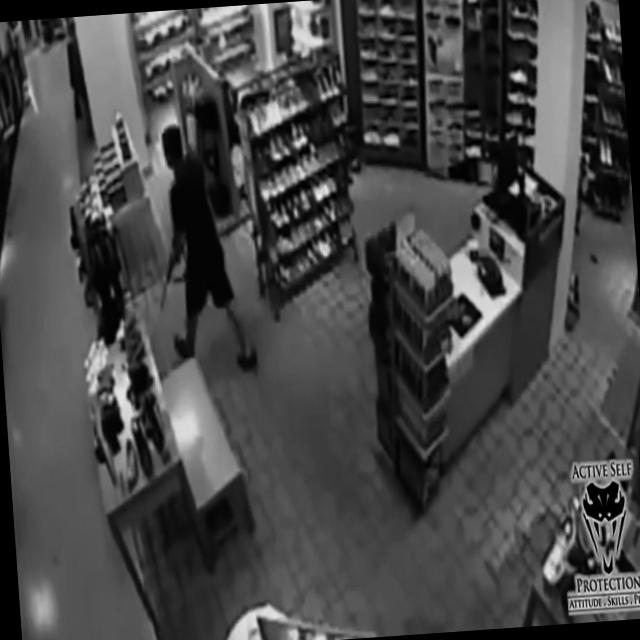gun: (154, 234, 187, 312)
person with a gun: (141, 114, 260, 379)
